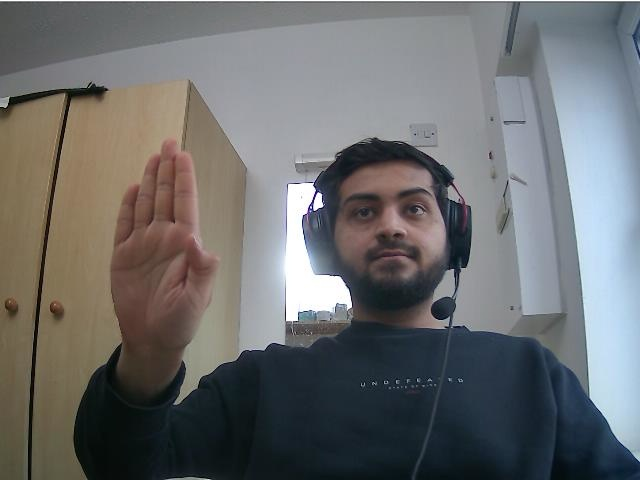up: (107, 138, 222, 350)
